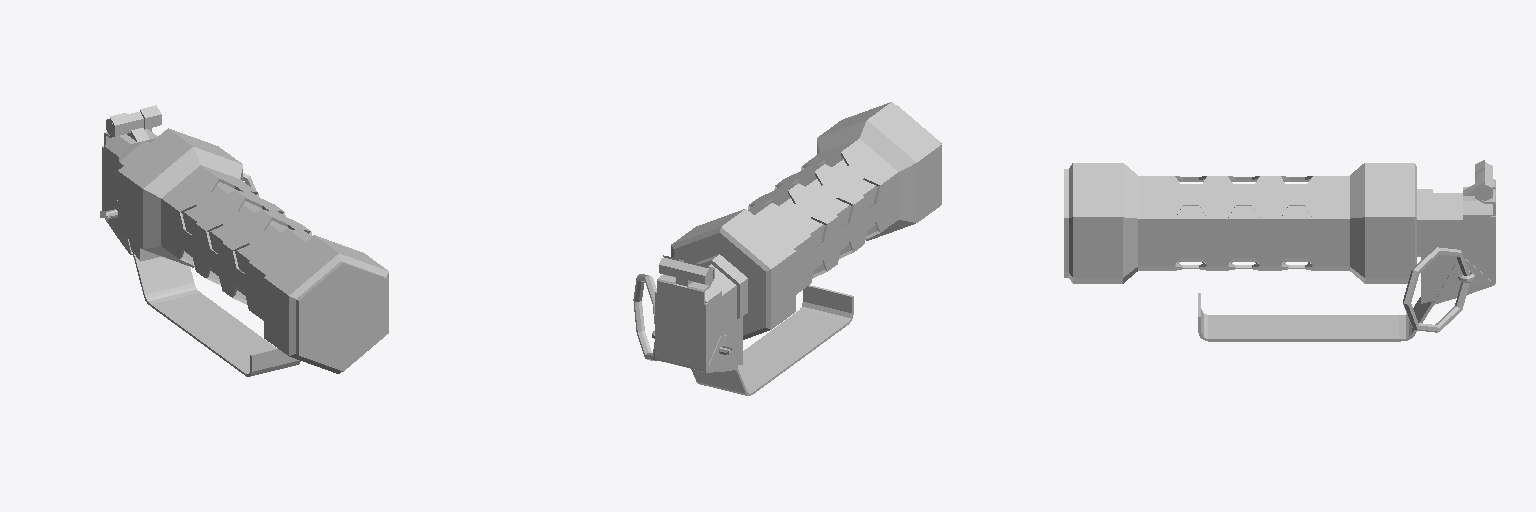
File: stun_grenade.obj
3 renders of one model, left to right at view 1: azimuth 30°, elevation 25°; view 2: azimuth 150°, elevation 25°; view 3: azimuth 270°, elevation 25°, orthographic.
Visible parts, largest first — view 1: grenadeModel; view 2: grenadeModel, pinModel; view 3: grenadeModel, pinModel.
Part boxes in pixels (left/top/right/bottom): grenadeModel: left=102, top=105, right=388, bottom=376; grenadeModel: left=655, top=102, right=941, bottom=395; pinModel: left=633, top=274, right=737, bottom=360; grenadeModel: left=1064, top=160, right=1495, bottom=341; pinModel: left=1403, top=247, right=1474, bottom=332.
Bounding box in the file's own units: 1.89 × 2.13 × 5.